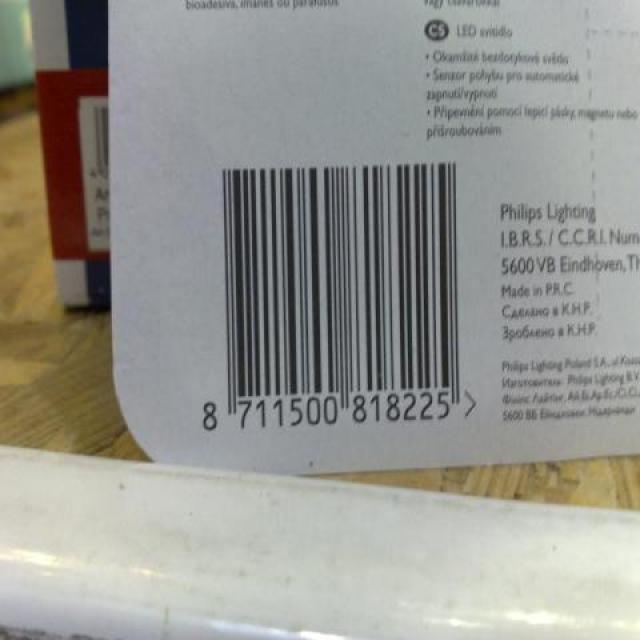Barcode: (188, 146, 495, 454)
